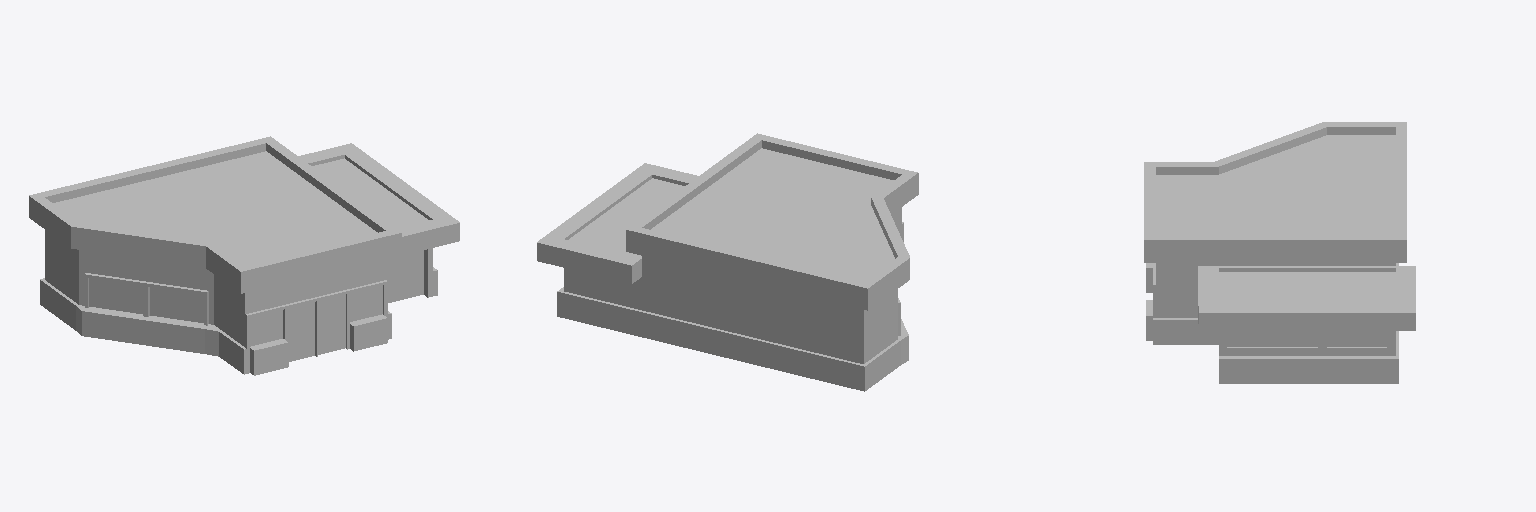
File: casa1.OBJ
3 views of the same model, side by side, from view 1: azimuth 30°, elevation 25°; view 2: azimuth 150°, elevation 25°; view 3: azimuth 270°, elevation 25° (orthographic).
Parts seen in each view (by area): view 1: Group22867, Group22128, Group42431, Group53829, Group23994, Group10784; view 2: Group22867, Group22128, Group42431, Group23994; view 3: Group22867, Group42431, Group22128, Group53829, Group23994.
Boxes of the visible parts, box(x1,y1,x2,y2) form: Group22867: box(29, 136, 459, 293); Group22128: box(45, 230, 385, 346); Group42431: box(40, 267, 437, 375); Group53829: box(89, 278, 382, 361); Group23994: box(85, 248, 432, 373); Group10784: box(386, 250, 423, 302); Group22867: box(537, 133, 918, 310); Group22128: box(642, 207, 901, 363); Group42431: box(557, 287, 908, 391); Group23994: box(564, 222, 903, 335); Group22867: box(1144, 122, 1415, 330); Group42431: box(1146, 263, 1398, 383); Group22128: box(1156, 263, 1395, 317); Group53829: box(1227, 331, 1386, 346); Group23994: box(1146, 263, 1395, 355).
Size of the model in its own units: 0.6492 by 0.204 by 0.4658.